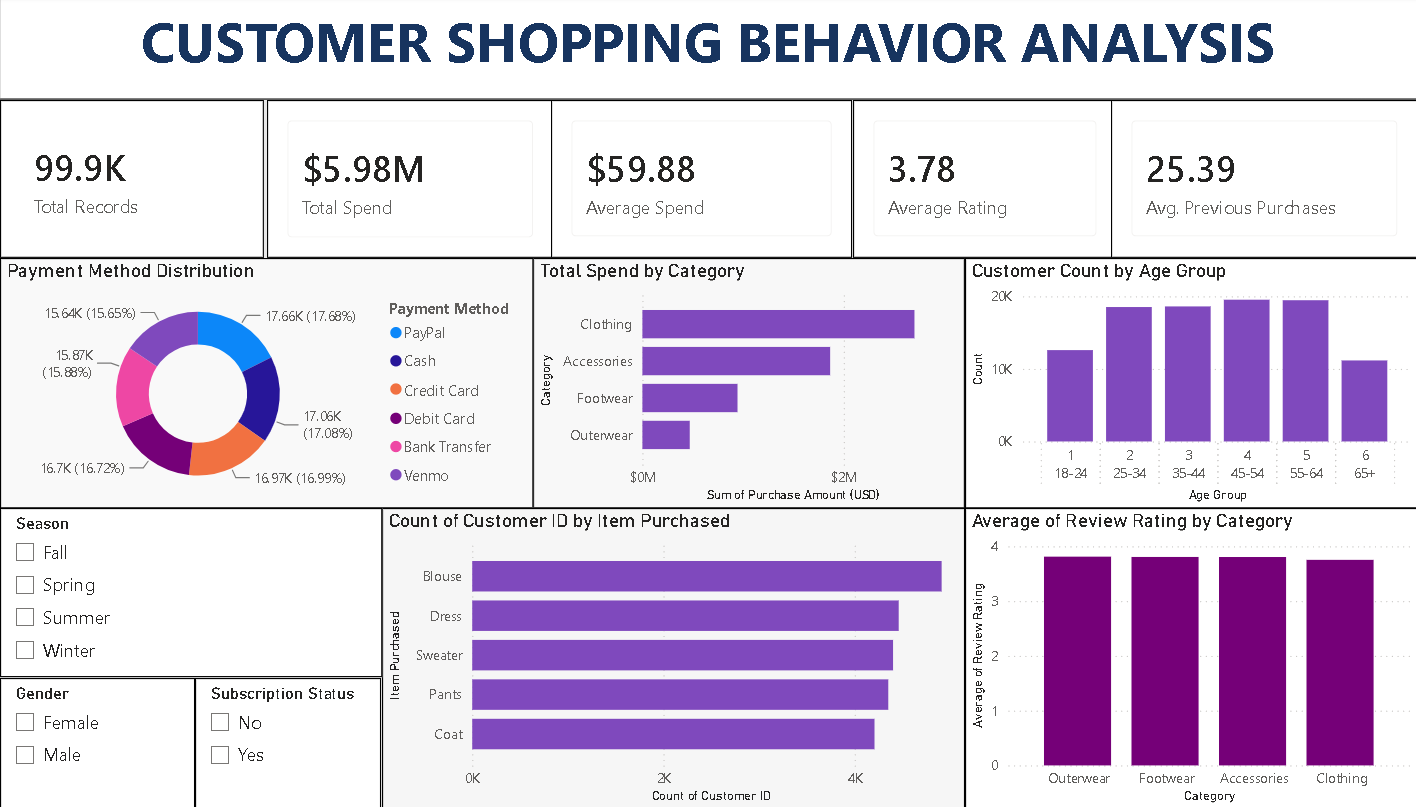

This screenshot's page, from the dashboard's own definition file:
{"tool":"powerbi","page":{"name":"Page 1","canvas":[1280,720],"ordinal":0},"visuals":[{"type":"cardVisual","fields":{"Data":["CountNonNull(customer_shopping_behavior_cleaned.Customer ID)"]},"box":[10.6,91.2,234.4,140],"z":0},{"type":"cardVisual","fields":{"Data":["Sum(customer_shopping_behavior_cleaned.Purchase Amount (USD))"]},"box":[247.4,91.3,254.5,140.1],"z":1000},{"type":"cardVisual","fields":{"Data":["Avg(customer_shopping_behavior_cleaned.Average Spend)"]},"box":[499.5,91.2,267.2,140],"z":2000},{"type":"cardVisual","fields":{"Data":["Avg(customer_shopping_behavior_cleaned.Review Rating)"]},"box":[766.7,91.2,234.4,140],"z":3000},{"type":"cardVisual","fields":{"Data":["Avg(customer_shopping_behavior_cleaned.Previous Purchases)"]},"box":[995.8,91.3,272.2,139.7],"z":4000},{"type":"clusteredBarChart","title":"Total Spend by Category","fields":{"Y":["Sum(customer_shopping_behavior_cleaned.Purchase Amount (USD))"],"Category":["customer_shopping_behavior_cleaned.Category"]},"box":[483.6,231.2,382.8,221.6],"z":5000},{"type":"donutChart","title":"Payment Method Distribution","fields":{"Category":["customer_shopping_behavior_cleaned.Payment Method"],"Y":["CountNonNull(customer_shopping_behavior_cleaned.Customer ID)"]},"box":[10.6,231.2,473,221.6],"z":6000},{"type":"clusteredBarChart","fields":{"Y":["CountNonNull(customer_shopping_behavior_cleaned.Customer ID)"],"Category":["customer_shopping_behavior_cleaned.Item Purchased"]},"box":[349.4,453.1,516.9,266.9],"z":7000},{"type":"clusteredColumnChart","title":"Customer Count by Age Group","fields":{"Y":["CountNonNull(customer_shopping_behavior_cleaned.Customer ID)"],"Category":["customer_shopping_behavior_cleaned.Age Group","customer_shopping_behavior_cleaned.Age Group Sort"]},"box":[866.3,231.4,402.6,221.7],"z":8000},{"type":"slicer","fields":{"Values":["customer_shopping_behavior_cleaned.Gender"]},"box":[10.6,603.4,172.9,116.7],"z":9000},{"type":"slicer","fields":{"Values":["customer_shopping_behavior_cleaned.Season"]},"box":[10.7,453.1,338.5,150.4],"z":10000},{"type":"slicer","fields":{"Values":["customer_shopping_behavior_cleaned.Subscription Status"]},"box":[183.5,603.4,165.4,116.7],"z":11000},{"type":"clusteredColumnChart","fields":{"Category":["customer_shopping_behavior_cleaned.Category"],"Y":["Avg(customer_shopping_behavior_cleaned.Review Rating)"]},"box":[866.4,452.8,401.9,267.2],"z":12000},{"type":"textbox","title":"gfggf","box":[9.8,0,1258.2,91.3],"z":13000}]}

Visuals, with their boxes in screenshot pixels (x1, y1, x2, y2), scaled from the page's 1280x720 canvas onto the 1416x807 screenshot:
cardVisual - CountNonNull(customer_shopping_behavior_cleaned.Customer ID): BBox(12, 102, 271, 259)
cardVisual - Sum(customer_shopping_behavior_cleaned.Purchase Amount (USD)): BBox(274, 102, 555, 259)
cardVisual - Avg(customer_shopping_behavior_cleaned.Average Spend): BBox(553, 102, 848, 259)
cardVisual - Avg(customer_shopping_behavior_cleaned.Review Rating): BBox(848, 102, 1107, 259)
cardVisual - Avg(customer_shopping_behavior_cleaned.Previous Purchases): BBox(1102, 102, 1403, 259)
"Total Spend by Category" clusteredBarChart: BBox(535, 259, 958, 508)
"Payment Method Distribution" donutChart: BBox(12, 259, 535, 508)
clusteredBarChart - CountNonNull(customer_shopping_behavior_cleaned.Customer ID) x customer_shopping_behavior_cleaned.Item Purchased: BBox(387, 508, 958, 806)
"Customer Count by Age Group" clusteredColumnChart: BBox(958, 259, 1404, 508)
slicer - customer_shopping_behavior_cleaned.Gender: BBox(12, 676, 203, 806)
slicer - customer_shopping_behavior_cleaned.Season: BBox(12, 508, 386, 676)
slicer - customer_shopping_behavior_cleaned.Subscription Status: BBox(203, 676, 386, 806)
clusteredColumnChart - customer_shopping_behavior_cleaned.Category x Avg(customer_shopping_behavior_cleaned.Review Rating): BBox(958, 508, 1403, 806)
"gfggf" textbox: BBox(11, 0, 1403, 102)
